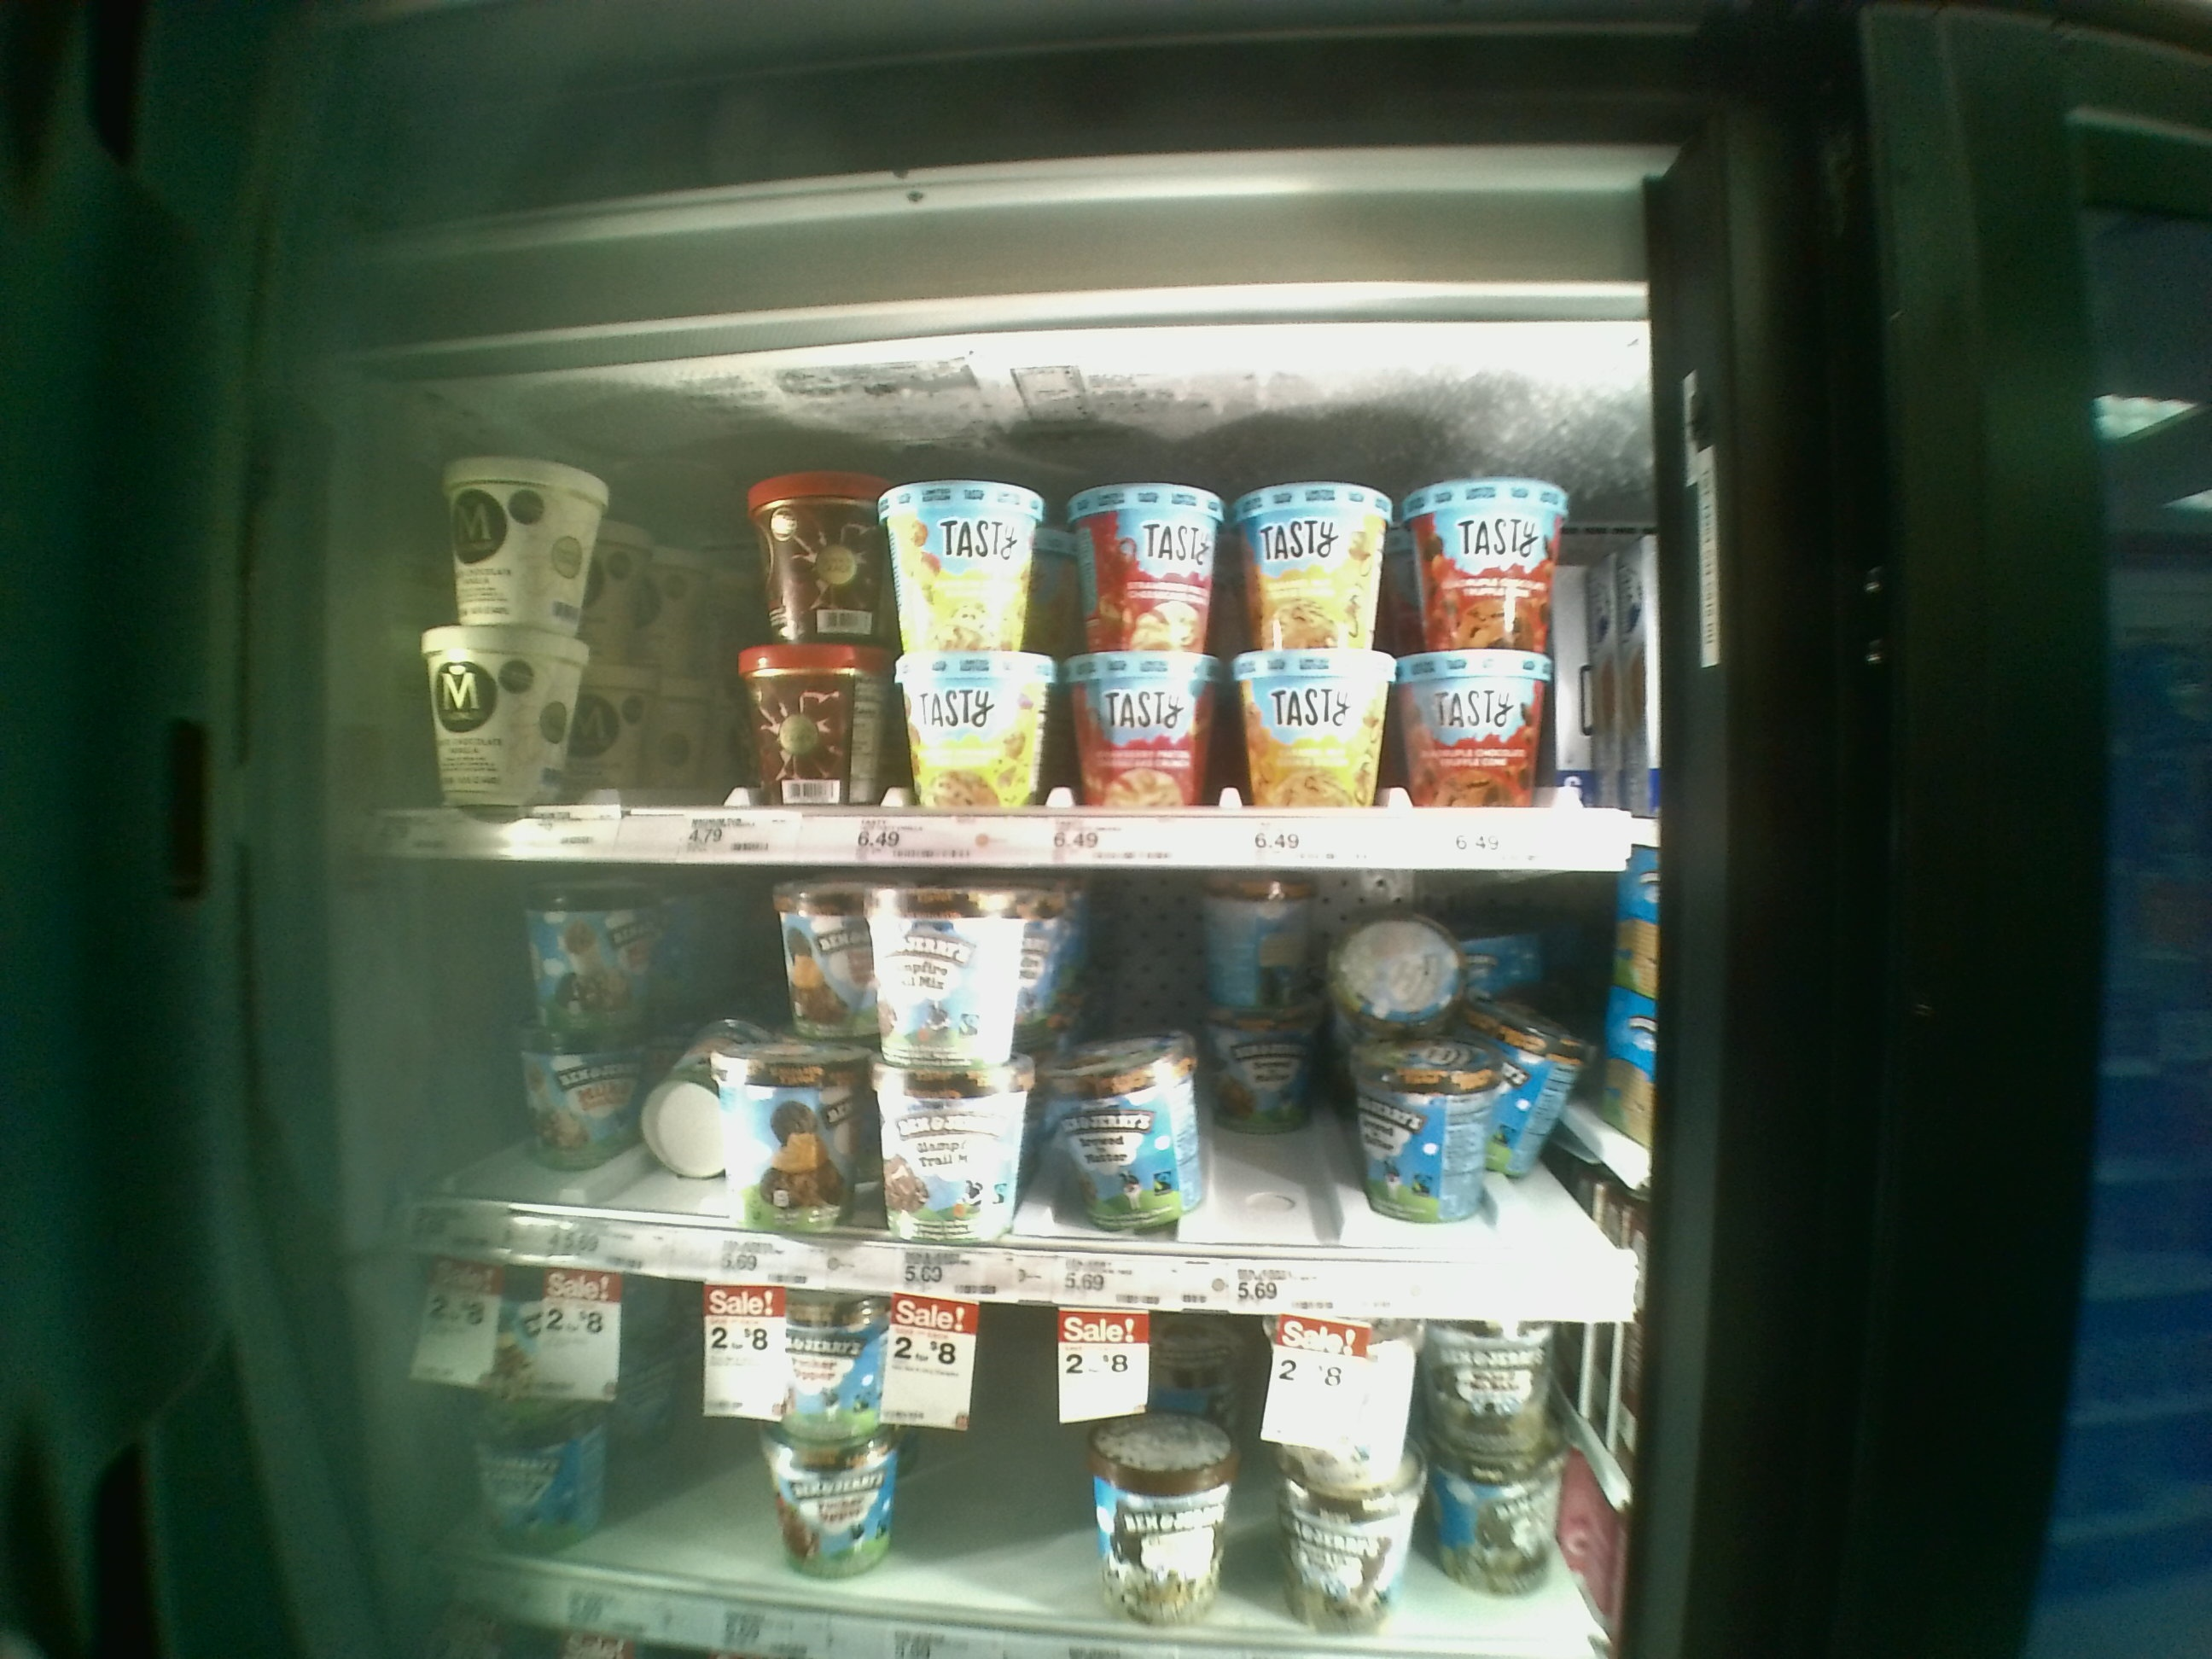shelf: (369, 380, 1656, 859), (364, 859, 1658, 1333)
